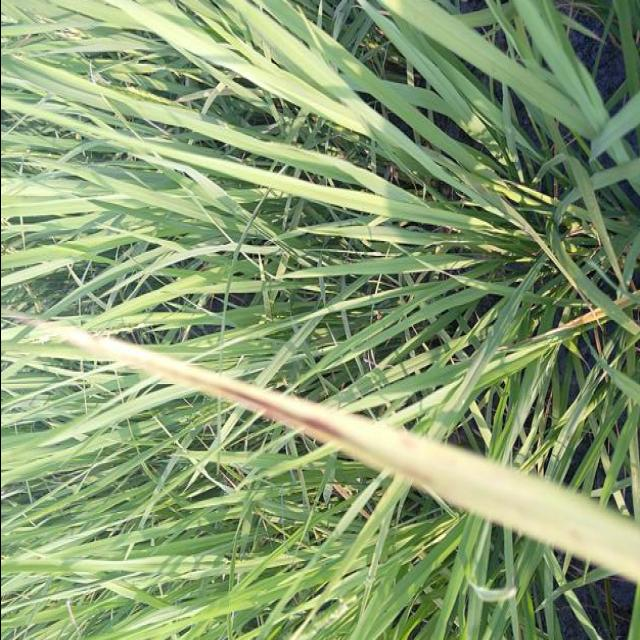Leaf Blight: (0, 313, 640, 585)
